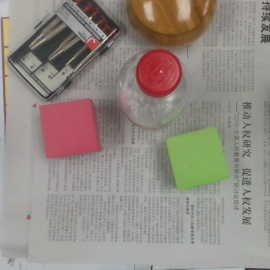bottle: (117, 48, 194, 131)
chess: (126, 1, 218, 46)
